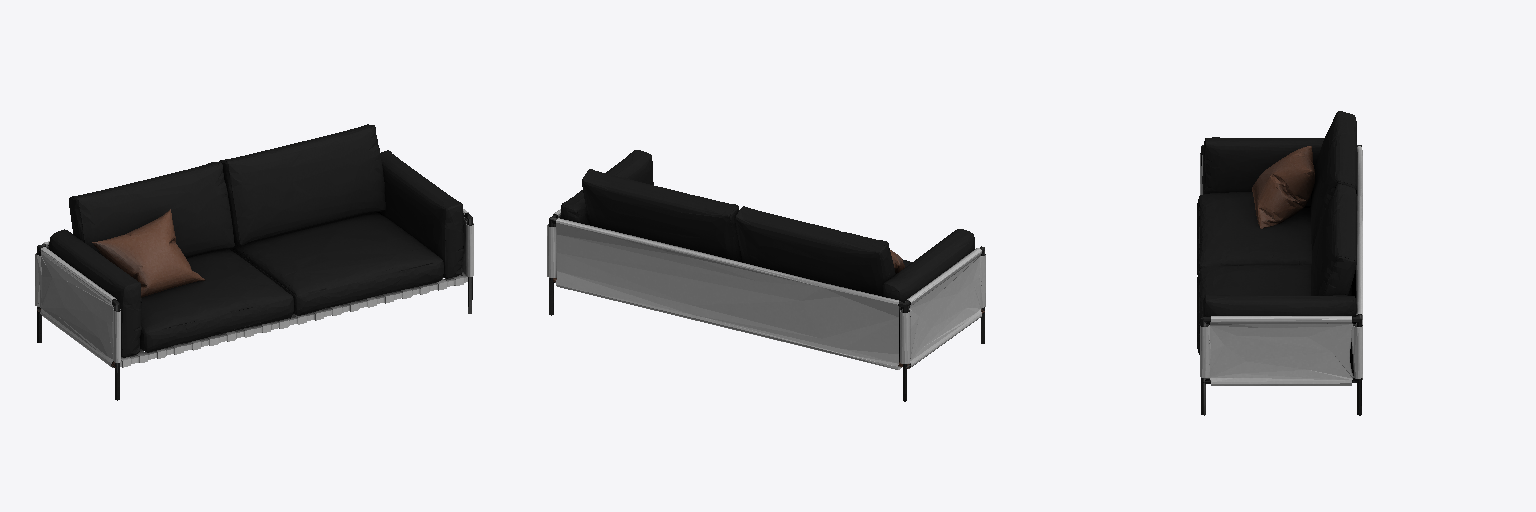
3 views of the same model, side by side, from view 1: azimuth 30°, elevation 25°; view 2: azimuth 150°, elevation 25°; view 3: azimuth 270°, elevation 25° (orthographic).
Parts seen in each view (by area): view 1: solid_004, solid_003, solid_002, solid_001; view 2: solid_003, solid_004, solid_001; view 3: solid_004, solid_003, solid_002, solid_001.
Part boxes in pixels (bbox=[...]): solid_004: bbox=[49, 124, 463, 357]; solid_003: bbox=[35, 209, 473, 367]; solid_002: bbox=[37, 209, 204, 367]; solid_001: bbox=[37, 213, 472, 400]; solid_003: bbox=[547, 209, 985, 369]; solid_004: bbox=[560, 150, 974, 309]; solid_001: bbox=[549, 214, 984, 401]; solid_004: bbox=[1197, 111, 1356, 354]; solid_003: bbox=[1200, 146, 1362, 385]; solid_002: bbox=[1252, 146, 1314, 228]; solid_001: bbox=[1201, 145, 1361, 415].
Bounding box in the file's own units: 2 × 0.7646 × 0.7957.
1 materials, 1 textured.